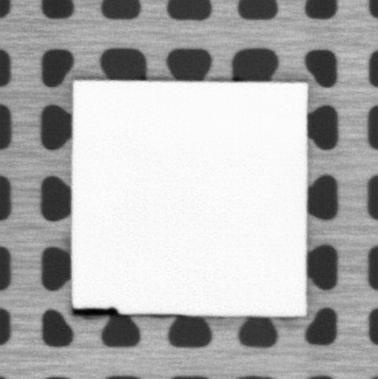DIE_BROKEN: (72, 305, 120, 316)
